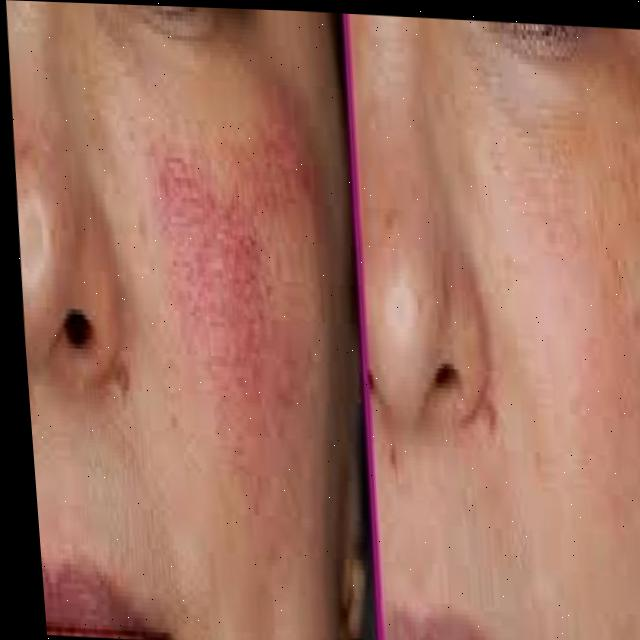Rosacea: (142, 135, 341, 473)
